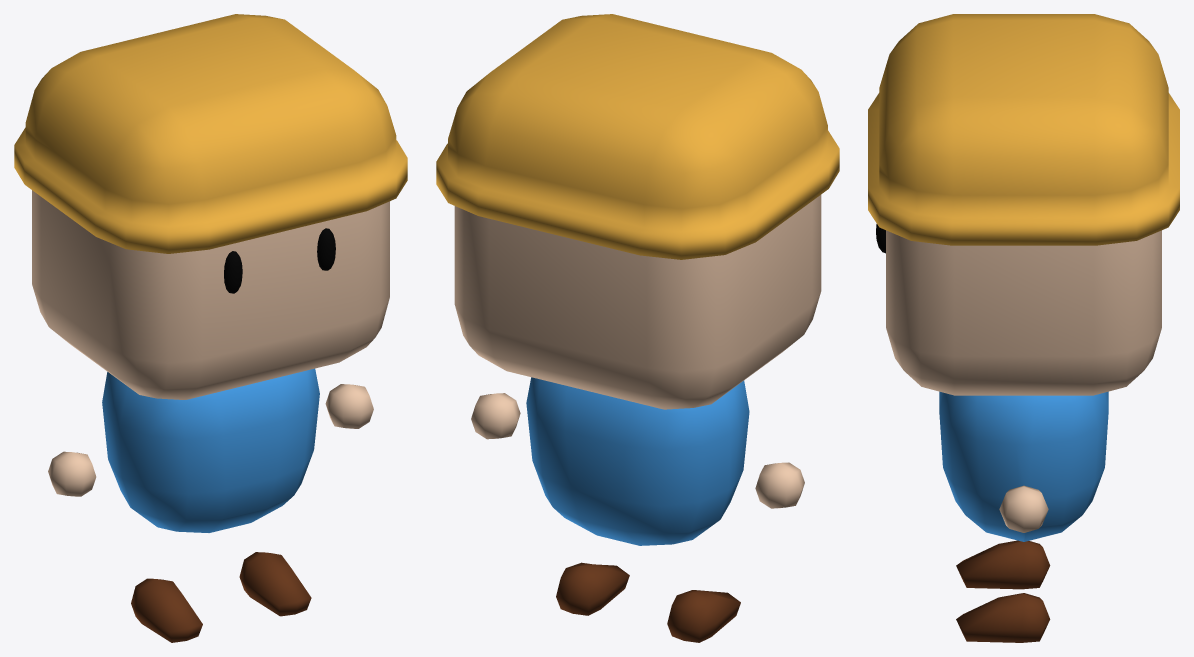
Rendered from npc3.glb.
The picture shows the model from 3 angles, left to right: view 1: azimuth 30°, elevation 25°; view 2: azimuth 150°, elevation 25°; view 3: azimuth 270°, elevation 25°; orthographic projection. The views are drawn at different scales.
Parts seen in each view (by area): view 1: npc3; view 2: npc3; view 3: npc3.
Boxes of the visible parts, x1,y1,x2,y2 form: npc3: (14,14,407,642); npc3: (436,14,839,642); npc3: (868,14,1179,642).
Bounding box in the file's own units: 3.44 × 5.58 × 2.87.
